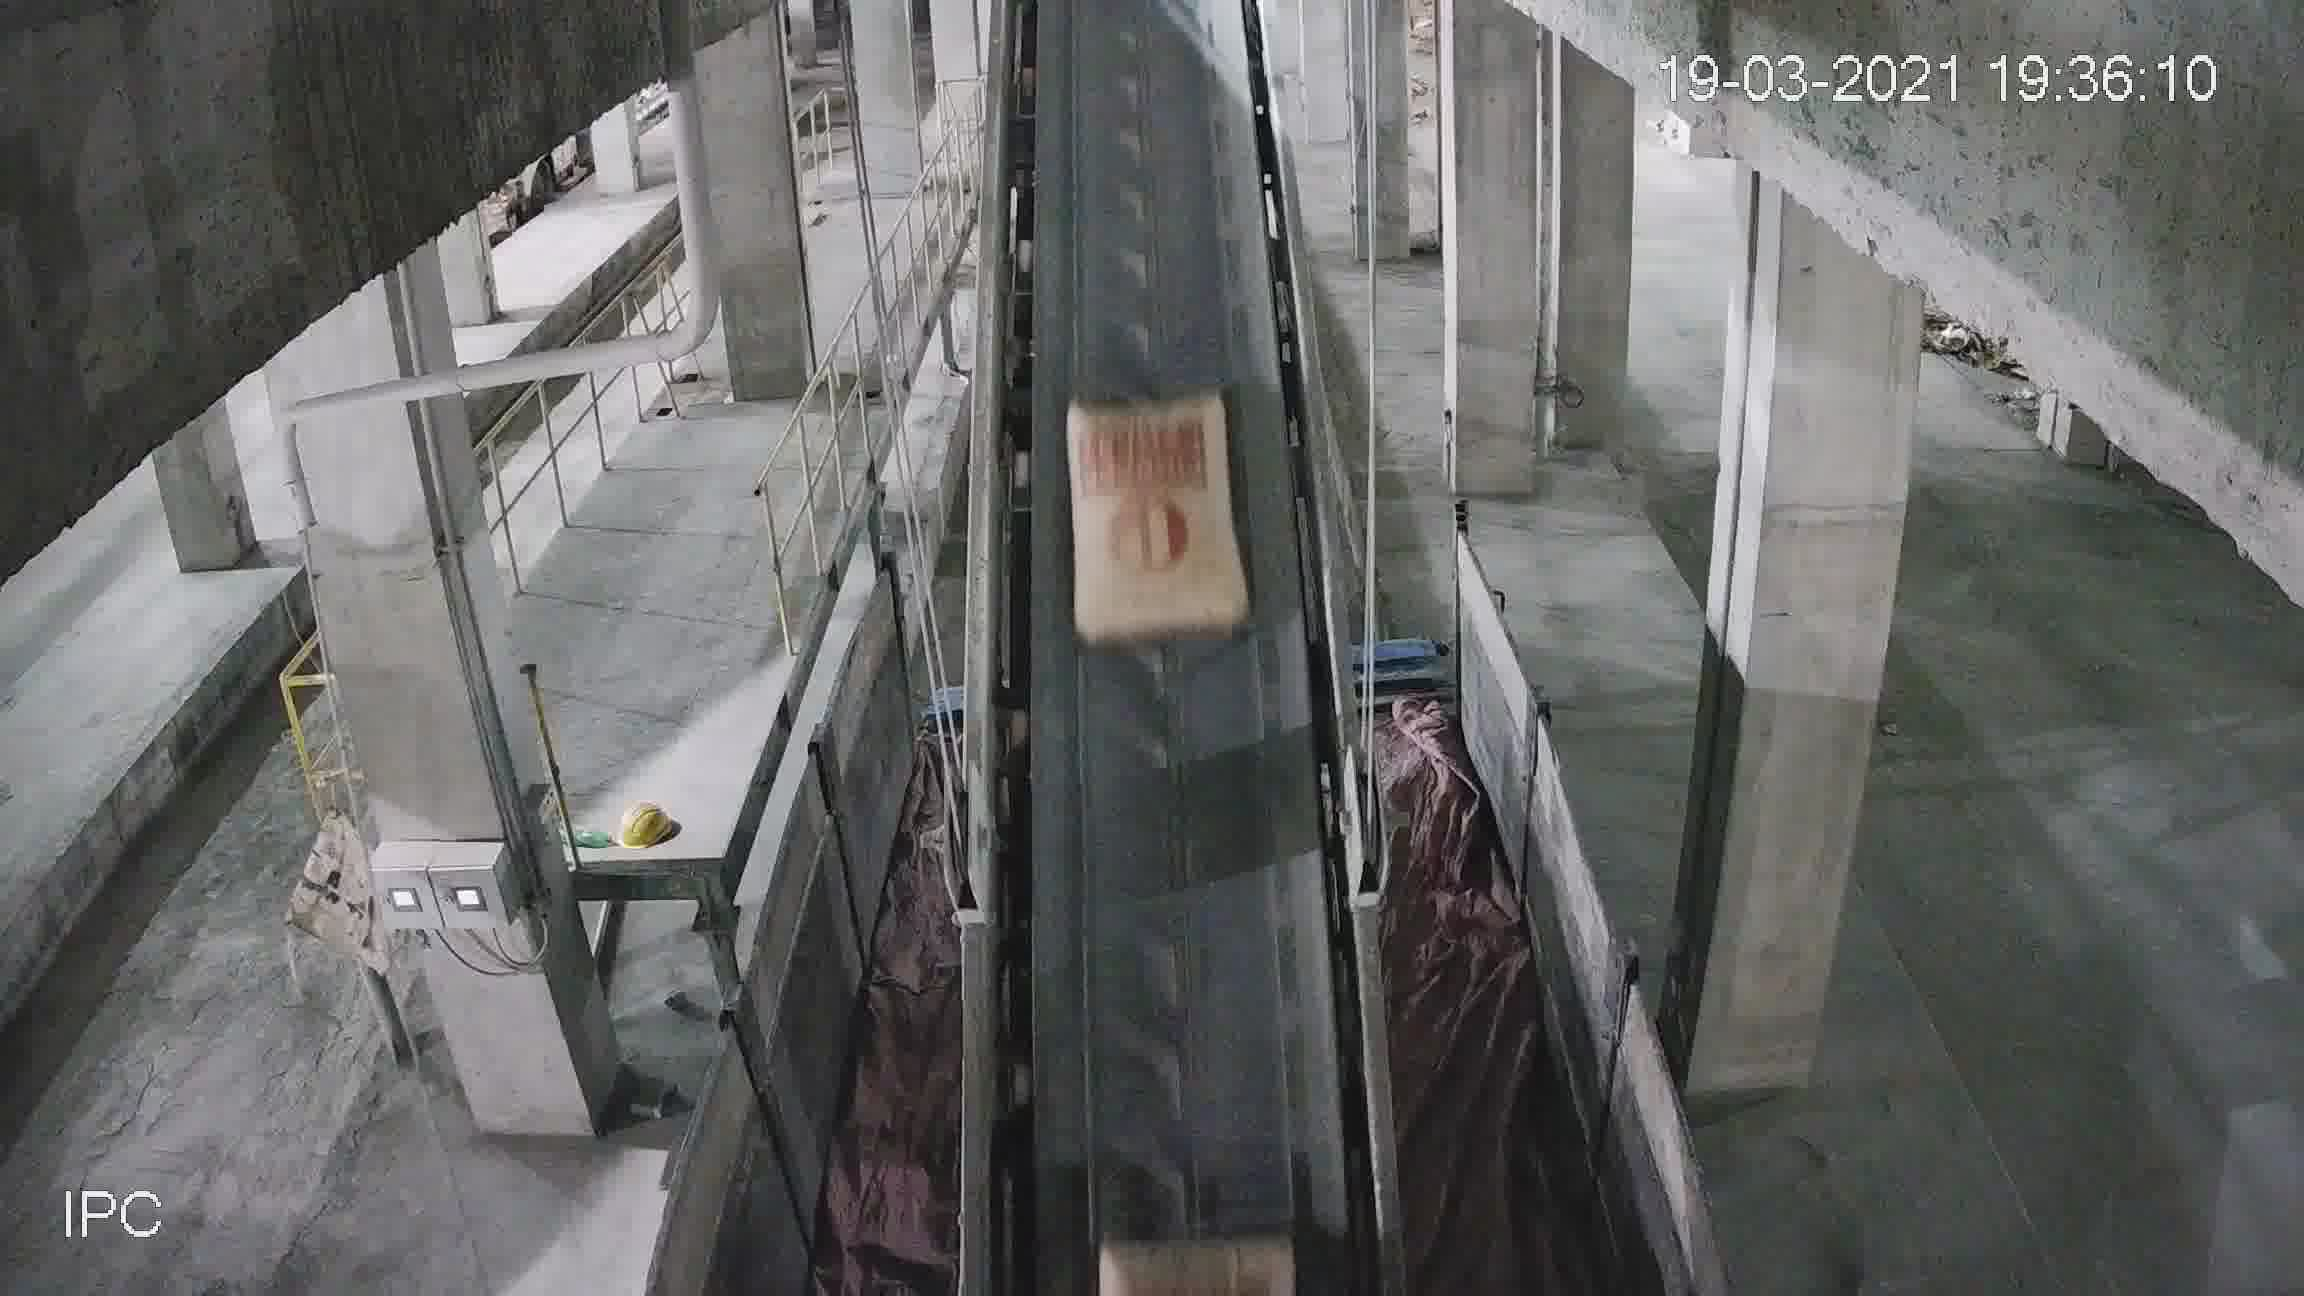bag: (1068, 388, 1236, 646), (1105, 1231, 1302, 1287)
belt: (961, 36, 1389, 1296)
